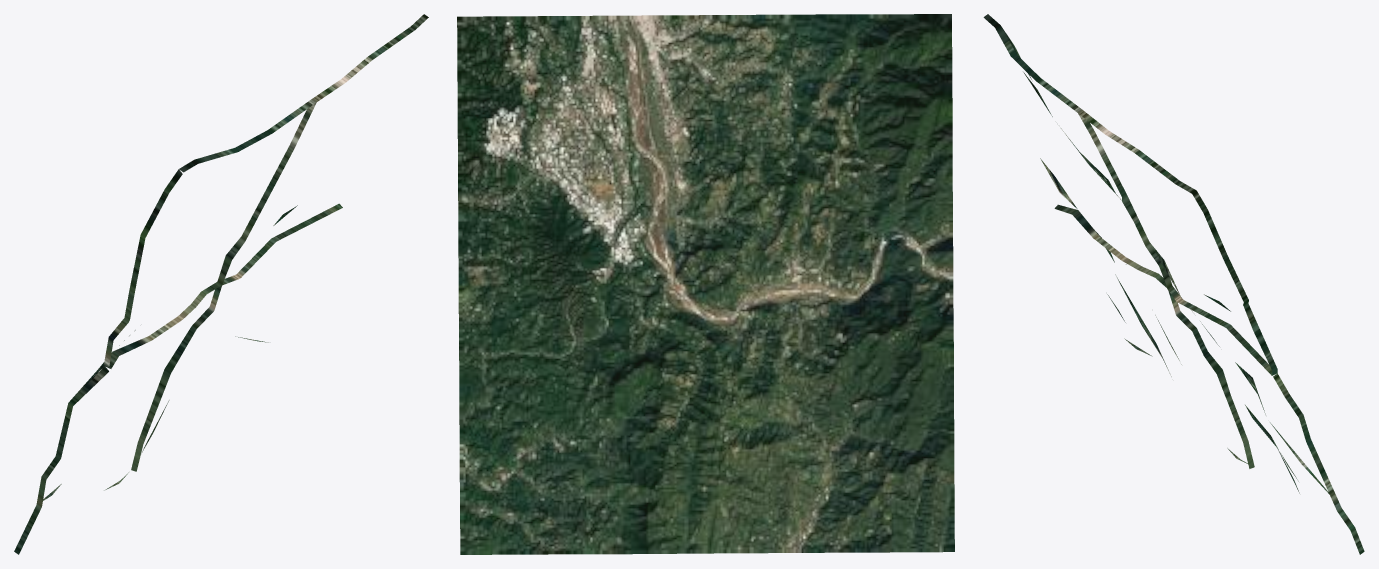
3 renders of one model, left to right at view 1: azimuth 30°, elevation 25°; view 2: azimuth 150°, elevation 25°; view 3: azimuth 270°, elevation 25°, orthographic. The views are drawn at different scales.
Bounding box in the file's own units: 19832 × 18470 × 15373.
Materials: 1 (1 with a texture image).
